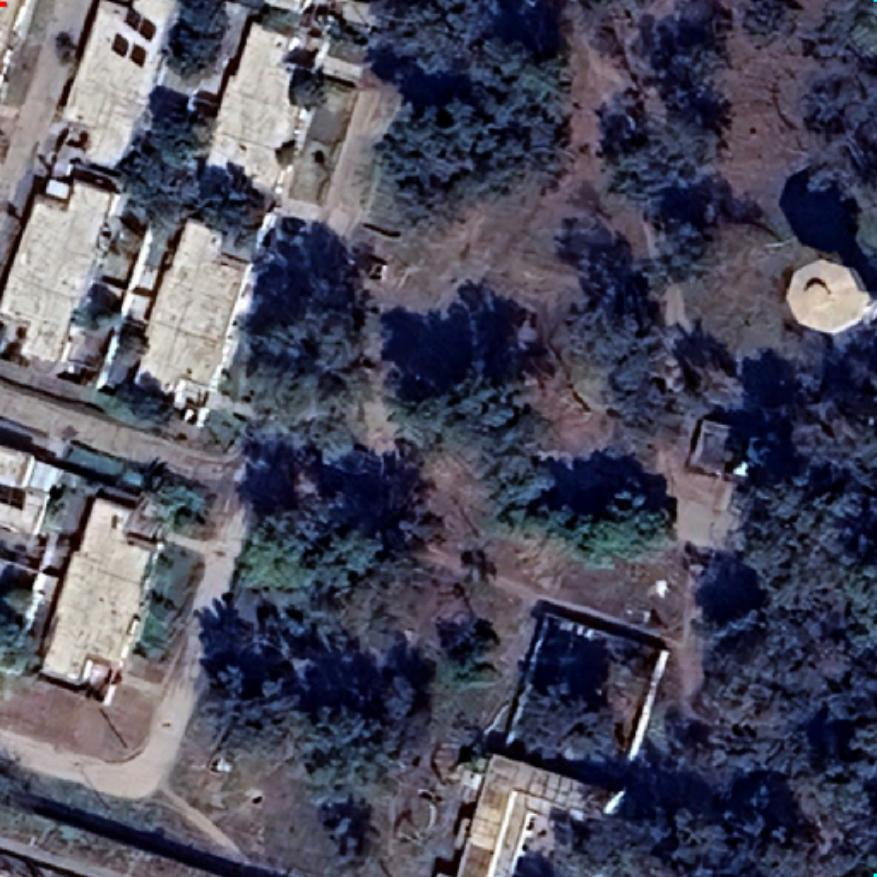Solarpanel: (106, 26, 152, 72), (119, 1, 161, 46), (1, 479, 30, 512)
